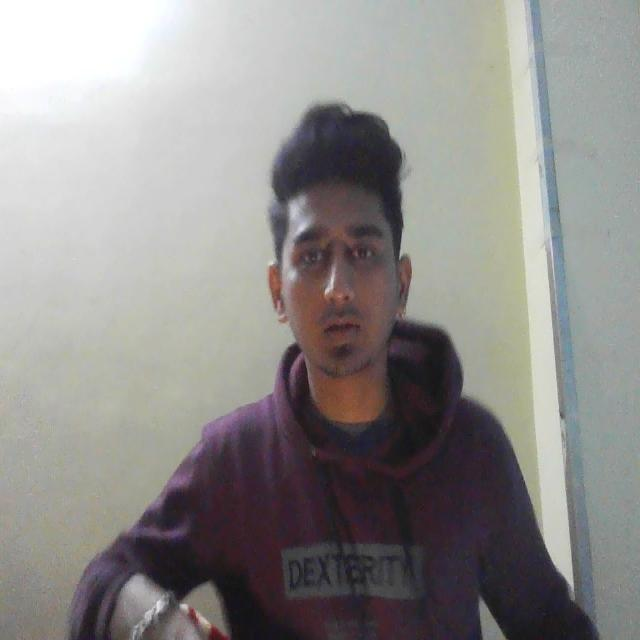real: (273, 119, 421, 398)
